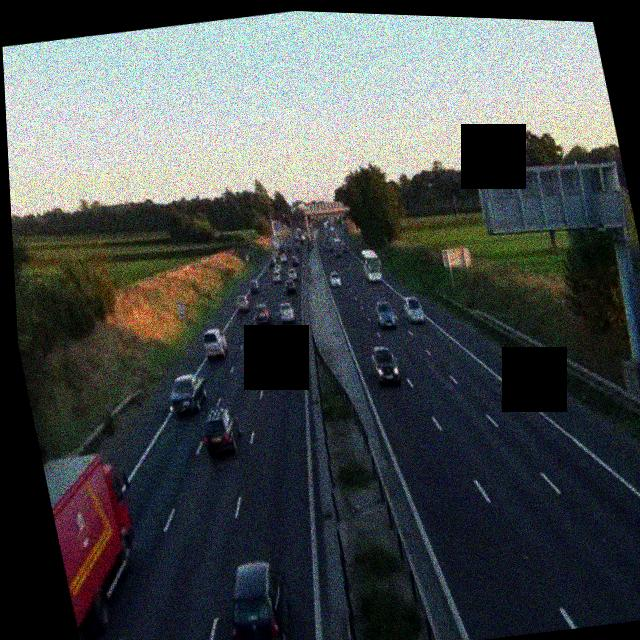bus: (359, 247, 384, 284)
car: (218, 557, 299, 640), (198, 405, 244, 457), (164, 372, 210, 418), (369, 344, 402, 386), (199, 326, 231, 363), (269, 345, 296, 381), (401, 293, 427, 326), (373, 299, 397, 329), (255, 342, 273, 370), (277, 299, 297, 324), (254, 301, 273, 327), (235, 293, 252, 313), (327, 268, 343, 289), (283, 276, 298, 295), (246, 278, 260, 295), (270, 268, 283, 285), (286, 266, 299, 281), (268, 254, 279, 267)
truck: (41, 446, 157, 640)
